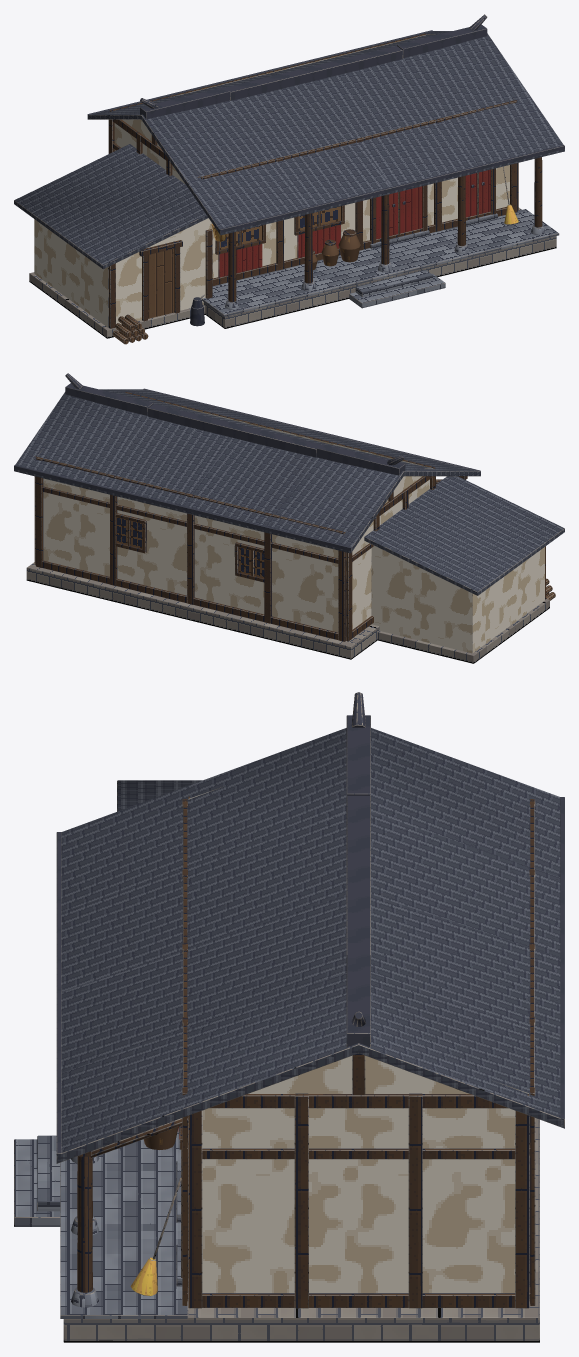
File: cn_timber_house_1.glb
The picture shows the model from 3 angles, top to bottom: view 1: azimuth 30°, elevation 25°; view 2: azimuth 150°, elevation 25°; view 3: azimuth 270°, elevation 25°; orthographic projection. The views are drawn at different scales.
Visible parts, largest first — view 1: cn_timber_house_2; view 2: cn_timber_house_2; view 3: cn_timber_house_2.
Part boxes in pixels (x1,y1,x2,y2): cn_timber_house_2: [14, 14, 564, 344]; cn_timber_house_2: [14, 373, 564, 663]; cn_timber_house_2: [14, 692, 564, 1342].
Size of the model in its own units: 13.88 by 5.21 by 7.75.
16 materials, 16 textured.
